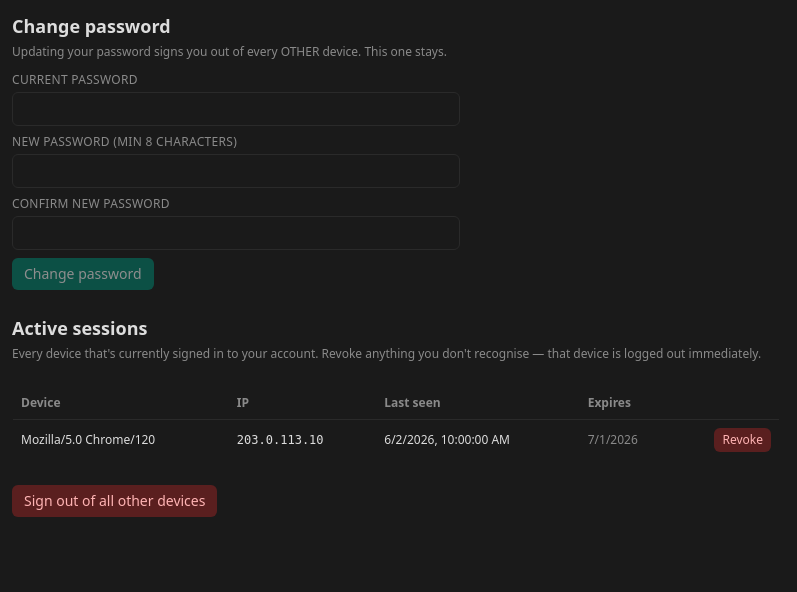
Scenario: SessionsTab — errors › shows error from revokeSession
Step 1. Click the button with test id "sessions-revoke-s2" → (743, 440), box left=714, top=428, right=771, bottom=452
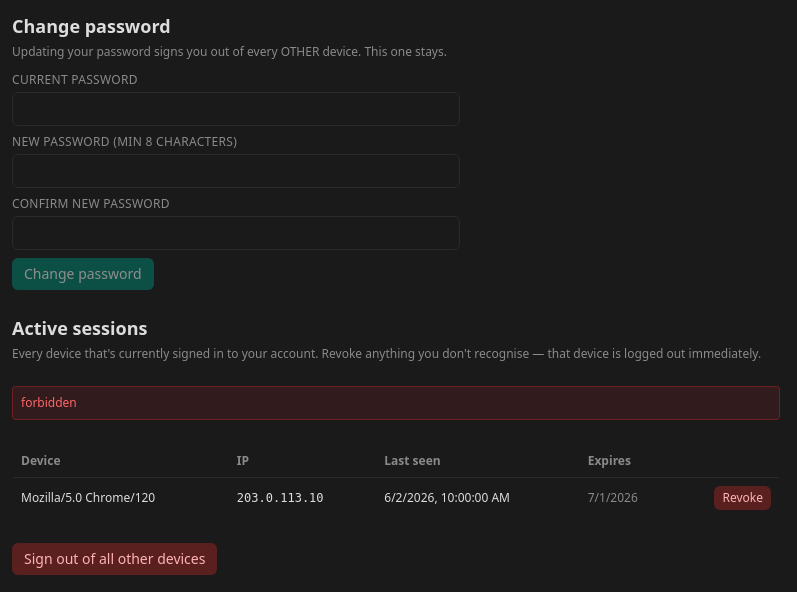
Now the message reads "forbidden", box left=21, top=394, right=77, bottom=411
